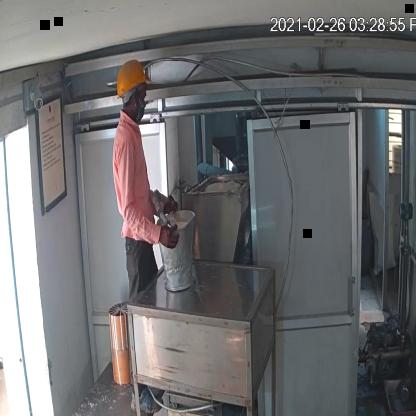helmet: (115, 55, 152, 103)
